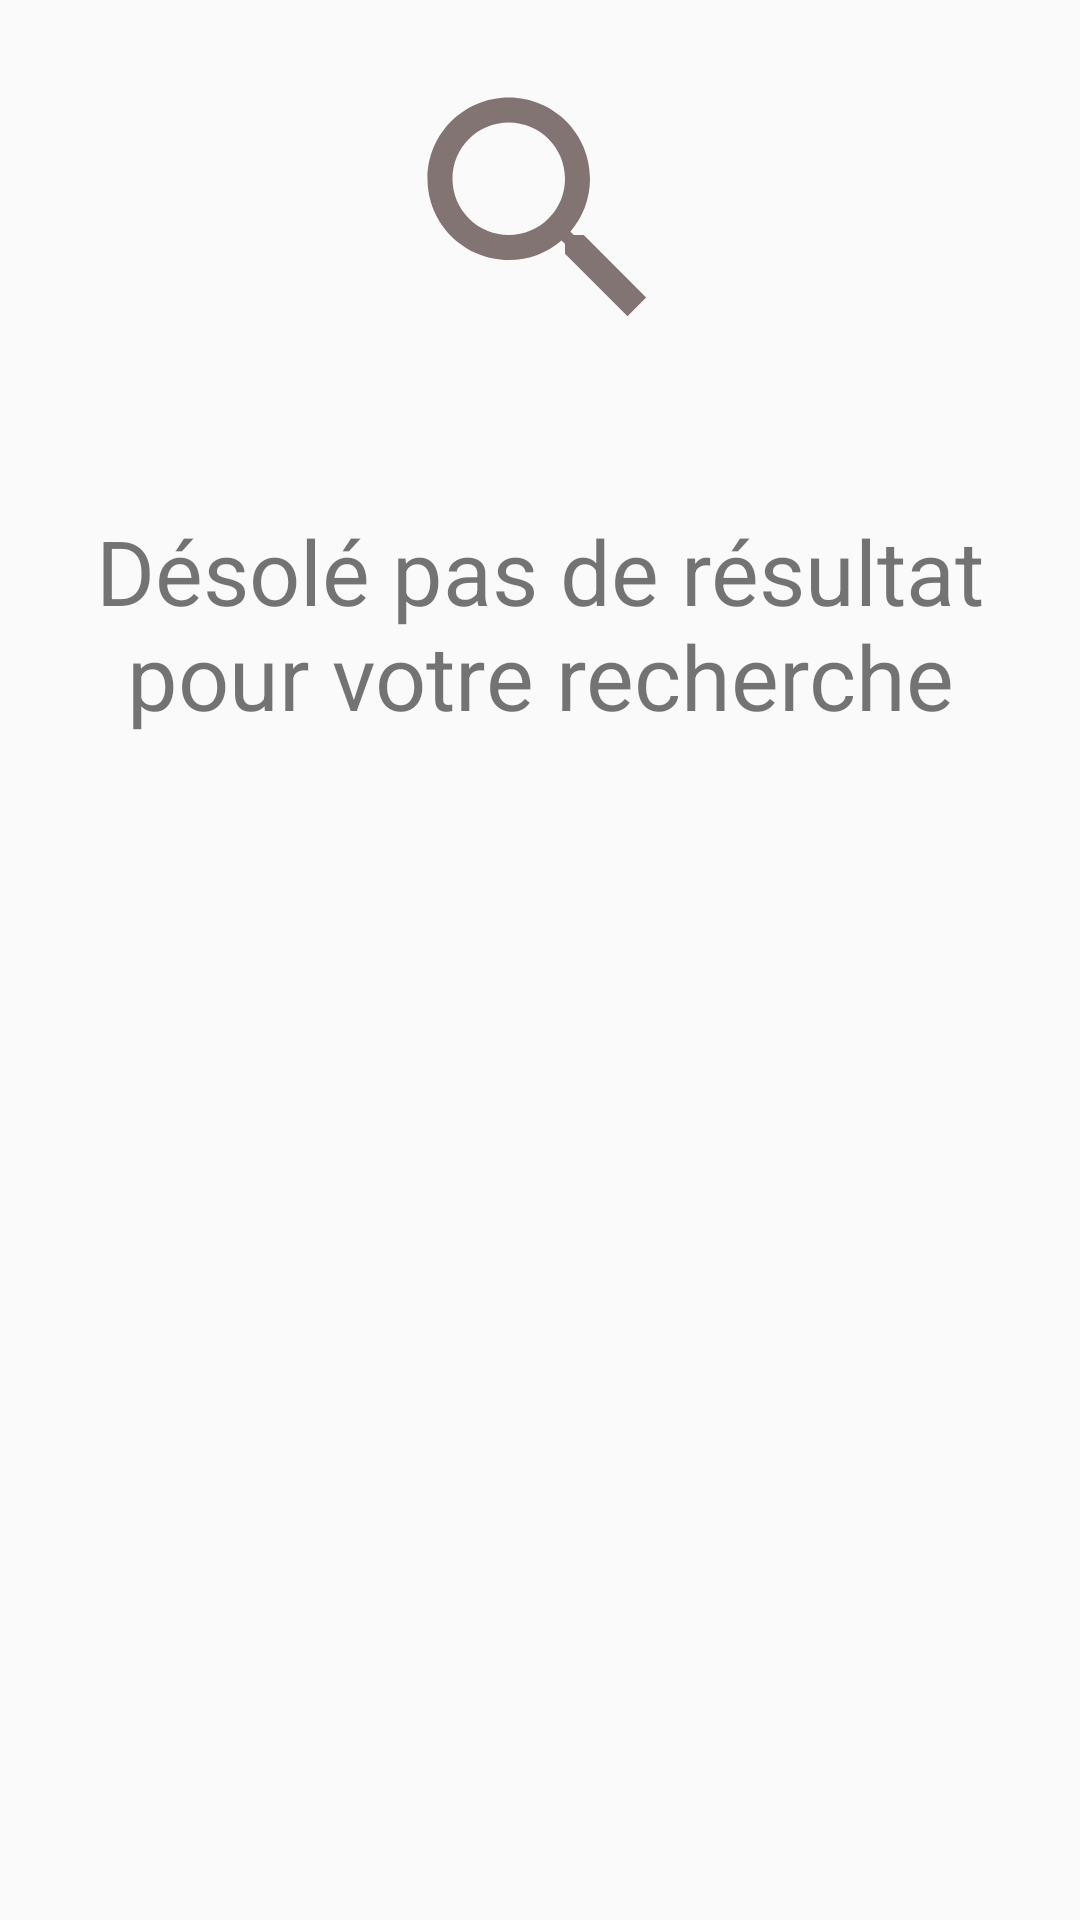

Point at icon controls on the screen. Image size 1080 x 1920, points as [x,y].
search: [536,206]
